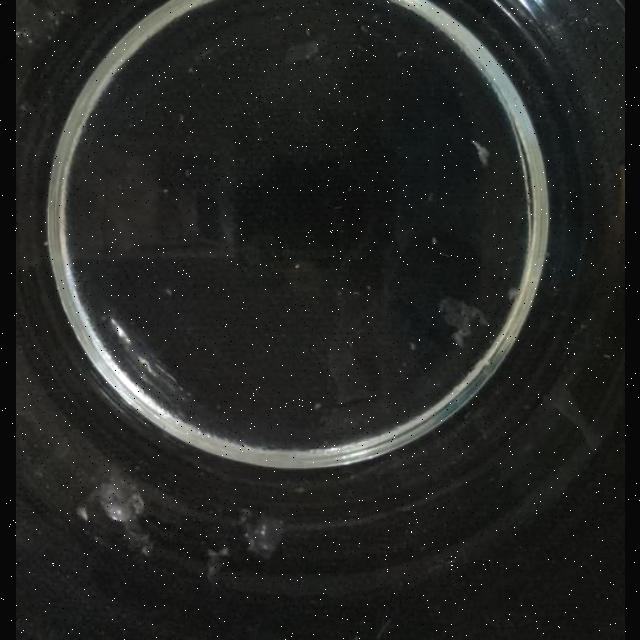Fibre: (78, 473, 152, 551), (438, 296, 490, 348), (15, 0, 64, 50), (242, 512, 286, 560), (205, 548, 231, 580), (508, 288, 520, 302)
microbeads: (470, 140, 490, 167), (438, 251, 450, 259)
